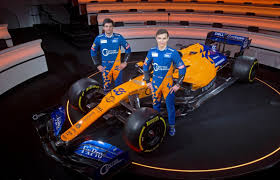f1_car: (30, 30, 264, 176)
